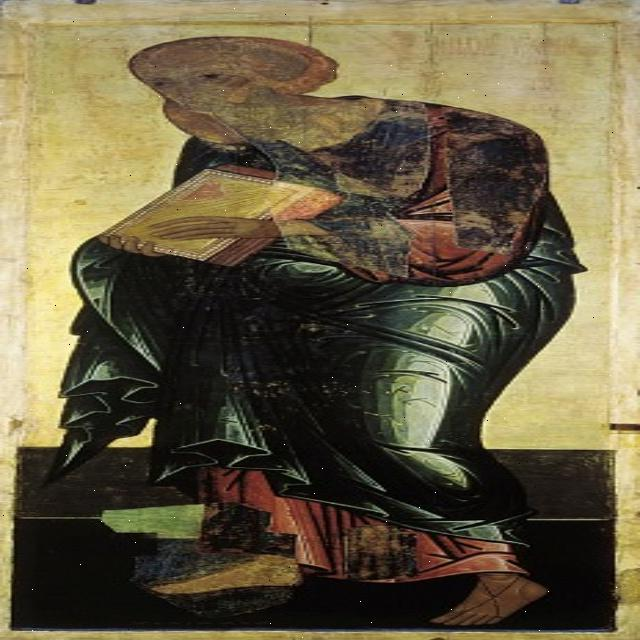aura: (57, 9, 418, 115)
book: (84, 168, 355, 265)
saint: (38, 9, 595, 628)
